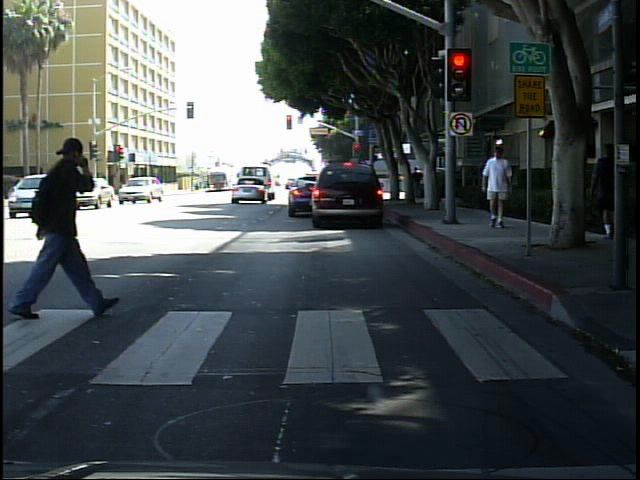person: (13, 124, 119, 338), (591, 137, 624, 246), (476, 145, 515, 231)
